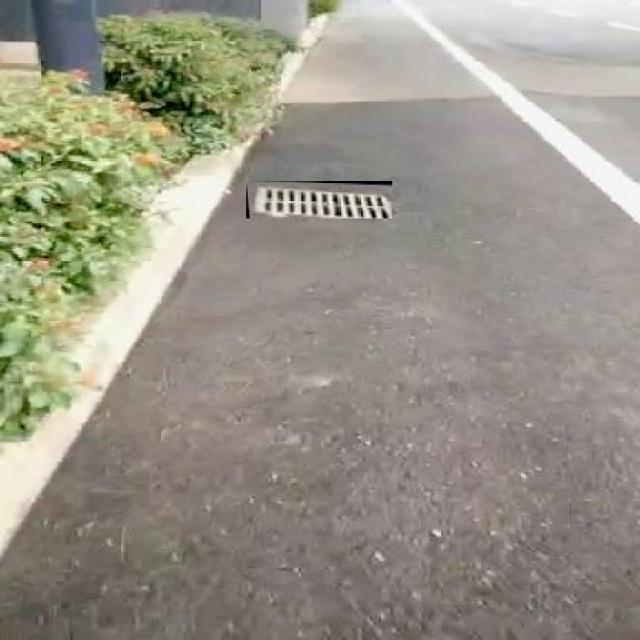Manhole: (246, 180, 392, 218)
